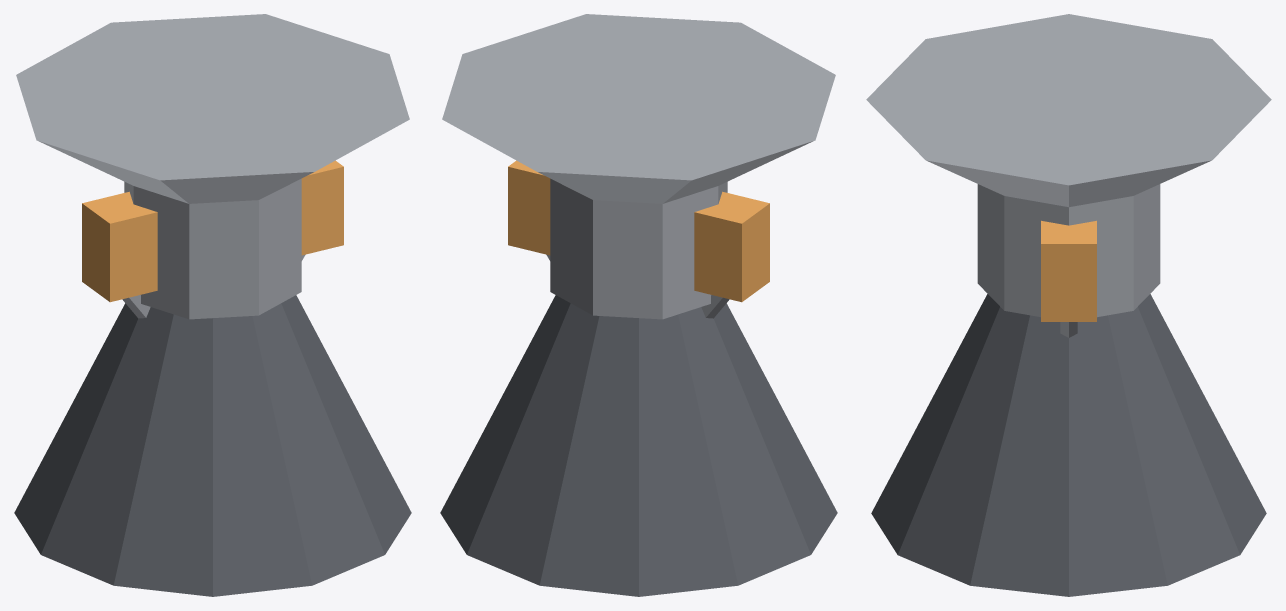
File: engine.glb
3 views of the same model, side by side, from view 1: azimuth 30°, elevation 25°; view 2: azimuth 150°, elevation 25°; view 3: azimuth 270°, elevation 25° (orthographic).
Visible parts, largest first — view 1: engine; view 2: engine; view 3: engine.
Part boxes in pixels (x1=…): engine: x1=14, y1=14, x2=411, y2=596; engine: x1=440, y1=14, x2=837, y2=596; engine: x1=866, y1=14, x2=1271, y2=596.
Bounding box in the file's own units: 1.6 × 1.8 × 1.6.
